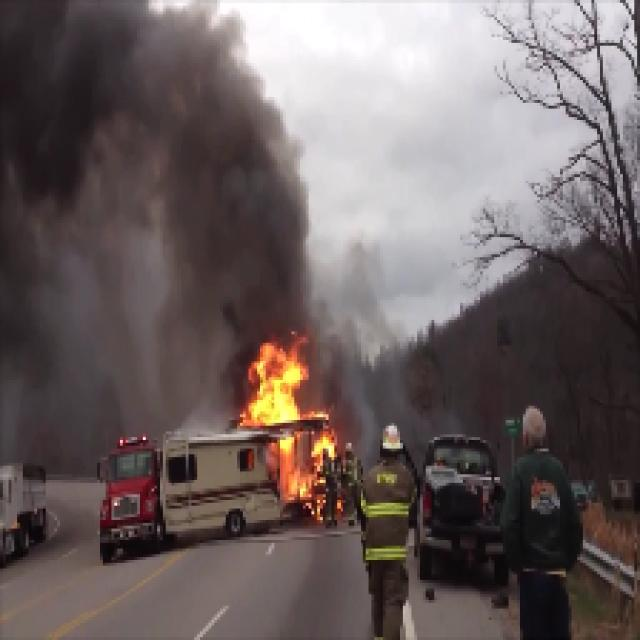fire: (247, 348, 336, 504)
smoke: (0, 0, 228, 431)
